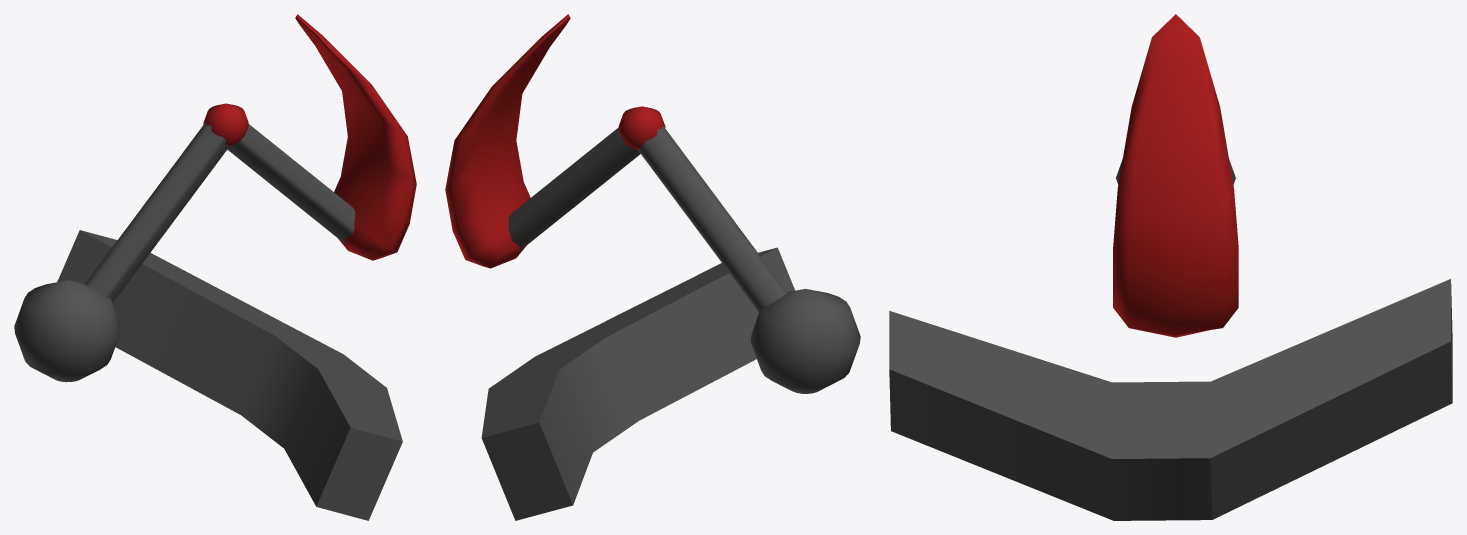
File: RotateHandle.fbx
The picture shows the model from 3 angles, left to right: view 1: azimuth 30°, elevation 25°; view 2: azimuth 150°, elevation 25°; view 3: azimuth 270°, elevation 25°; orthographic projection. The views are drawn at different scales.
Parts seen in each view (by area): view 1: RotaleLocater, pCube26, pSphere2, pCylinder24, pCylinder25, pSphere3; view 2: RotaleLocater, pCube26, pSphere2, pCylinder24, pCylinder25, pSphere3; view 3: RotaleLocater, pCube26.
Boxes of the visible parts, x1,y1,x2,y2 form: RotaleLocater: (57,230,402,520); pCube26: (295,14,416,260); pSphere2: (14,280,120,382); pCylinder24: (85,122,229,302); pCylinder25: (227,124,355,244); pSphere3: (203,103,248,145); RotaleLocater: (481,247,794,520); pCube26: (445,14,570,268); pSphere2: (750,288,860,393); pCylinder24: (638,126,787,312); pCylinder25: (508,127,640,250); pSphere3: (618,106,665,149); RotaleLocater: (889,279,1452,520); pCube26: (1113,14,1238,337).
Bounding box in the file's own units: 4.97 × 5.51 × 5.72.
